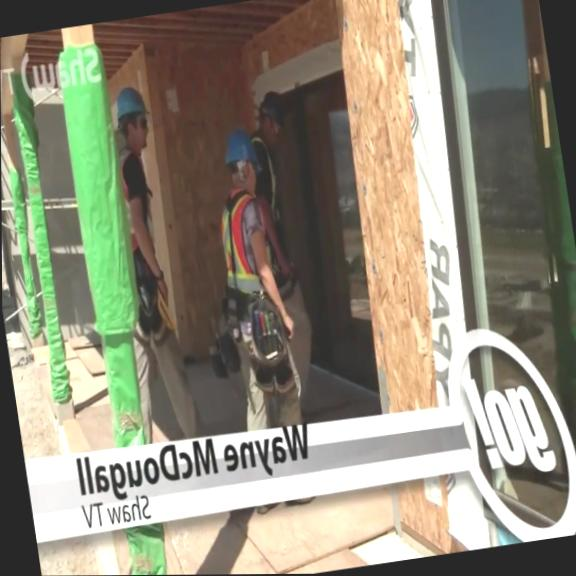safety_vest: (216, 188, 277, 297), (117, 142, 159, 254), (250, 128, 282, 225)
